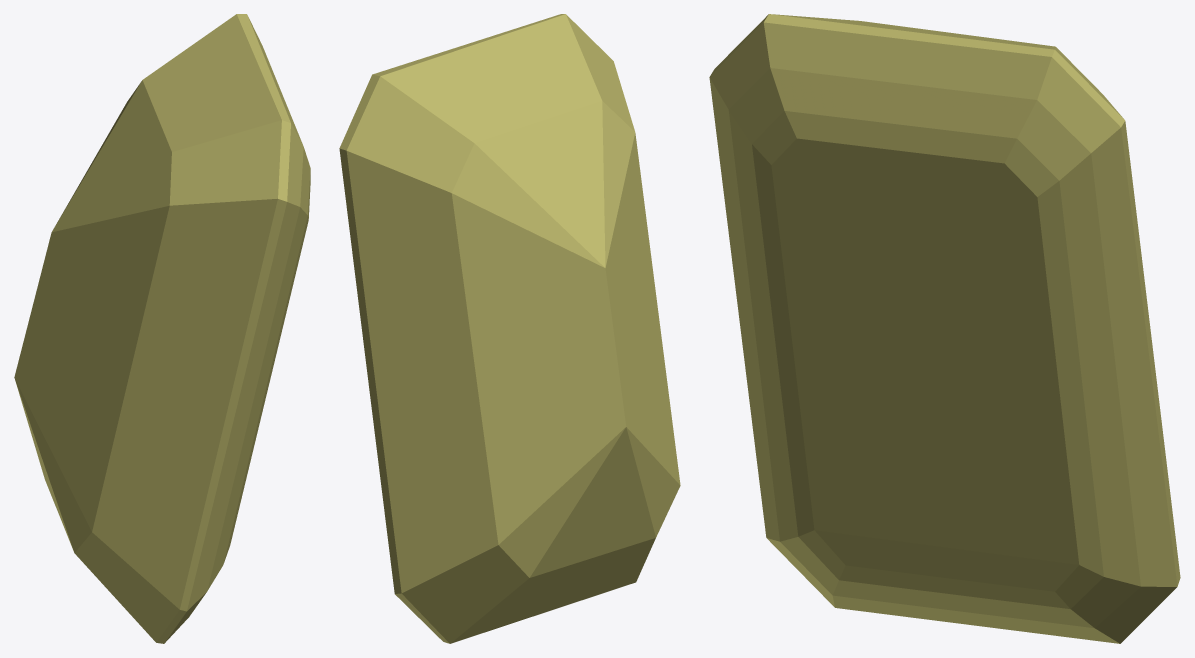
The model's file is TR5_8shapes_Emerald_Classic_Stone.001 2.glb.
The picture shows the model from 3 angles, left to right: view 1: azimuth 30°, elevation 25°; view 2: azimuth 150°, elevation 25°; view 3: azimuth 270°, elevation 25°; orthographic projection. The views are drawn at different scales.
Parts seen in each view (by area): view 1: TR5_8shapes_Emerald_Classic_Stone.001; view 2: TR5_8shapes_Emerald_Classic_Stone.001; view 3: TR5_8shapes_Emerald_Classic_Stone.001.
Boxes of the visible parts, x1=… form: TR5_8shapes_Emerald_Classic_Stone.001: x1=14, y1=14, x2=310, y2=643; TR5_8shapes_Emerald_Classic_Stone.001: x1=339, y1=14, x2=680, y2=643; TR5_8shapes_Emerald_Classic_Stone.001: x1=709, y1=14, x2=1180, y2=643.
Size of the model in its own units: 0.3024 by 0.5885 by 0.383.
